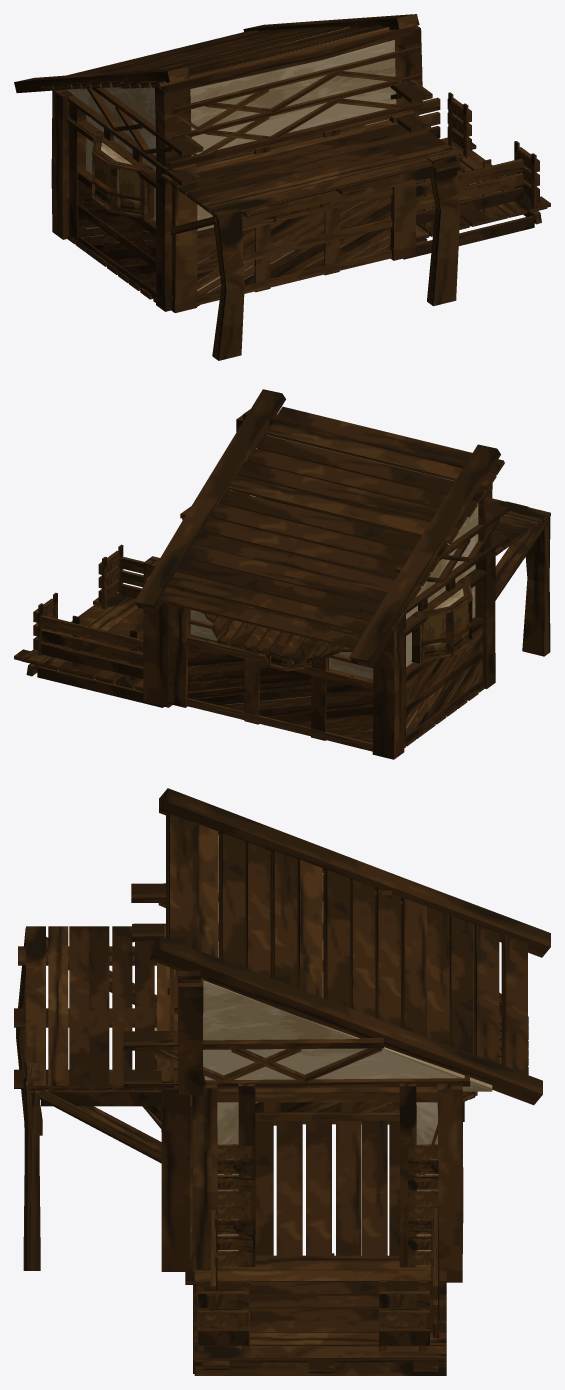
The model's file is Storage-col.glb.
3 renders of one model, top to bottom at view 1: azimuth 30°, elevation 25°; view 2: azimuth 150°, elevation 25°; view 3: azimuth 270°, elevation 25°, orthographic. The views are drawn at different scales.
Visible parts, largest first — view 1: Storage-col; view 2: Storage-col; view 3: Storage-col.
Boxes of the visible parts, x1=… form: Storage-col: x1=14, y1=14, x2=550, y2=360; Storage-col: x1=14, y1=389, x2=550, y2=759; Storage-col: x1=14, y1=788, x2=550, y2=1375.
Bounding box in the file's own units: 12.72 × 7.42 × 10.6.
1 material, 1 textured.
